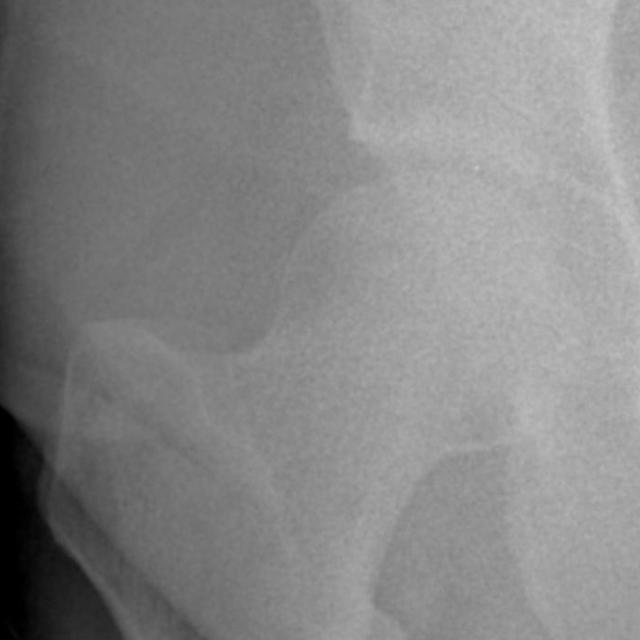Fitted_femural_head: (299, 170, 432, 299)
